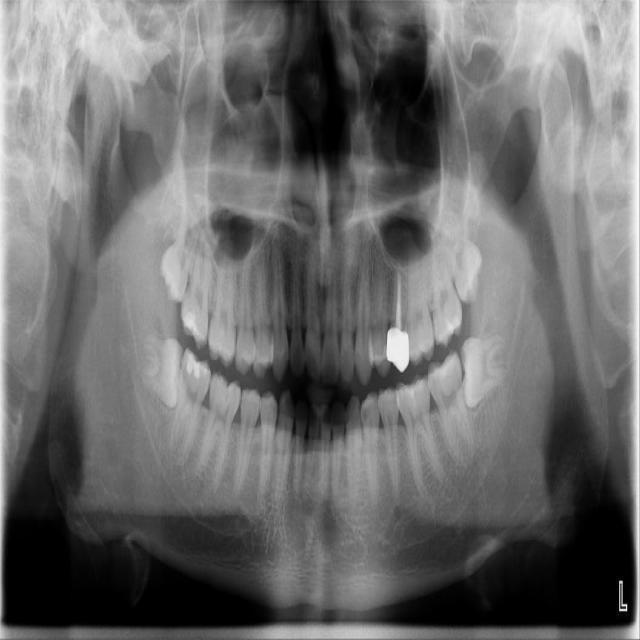Crown: (386, 327, 410, 373)
Filling: (180, 307, 205, 342), (183, 350, 207, 378)
Root Canal Treatment: (397, 271, 402, 324)
impacted tooth: (158, 197, 201, 299), (130, 333, 181, 408), (461, 332, 511, 408), (433, 227, 481, 302)
